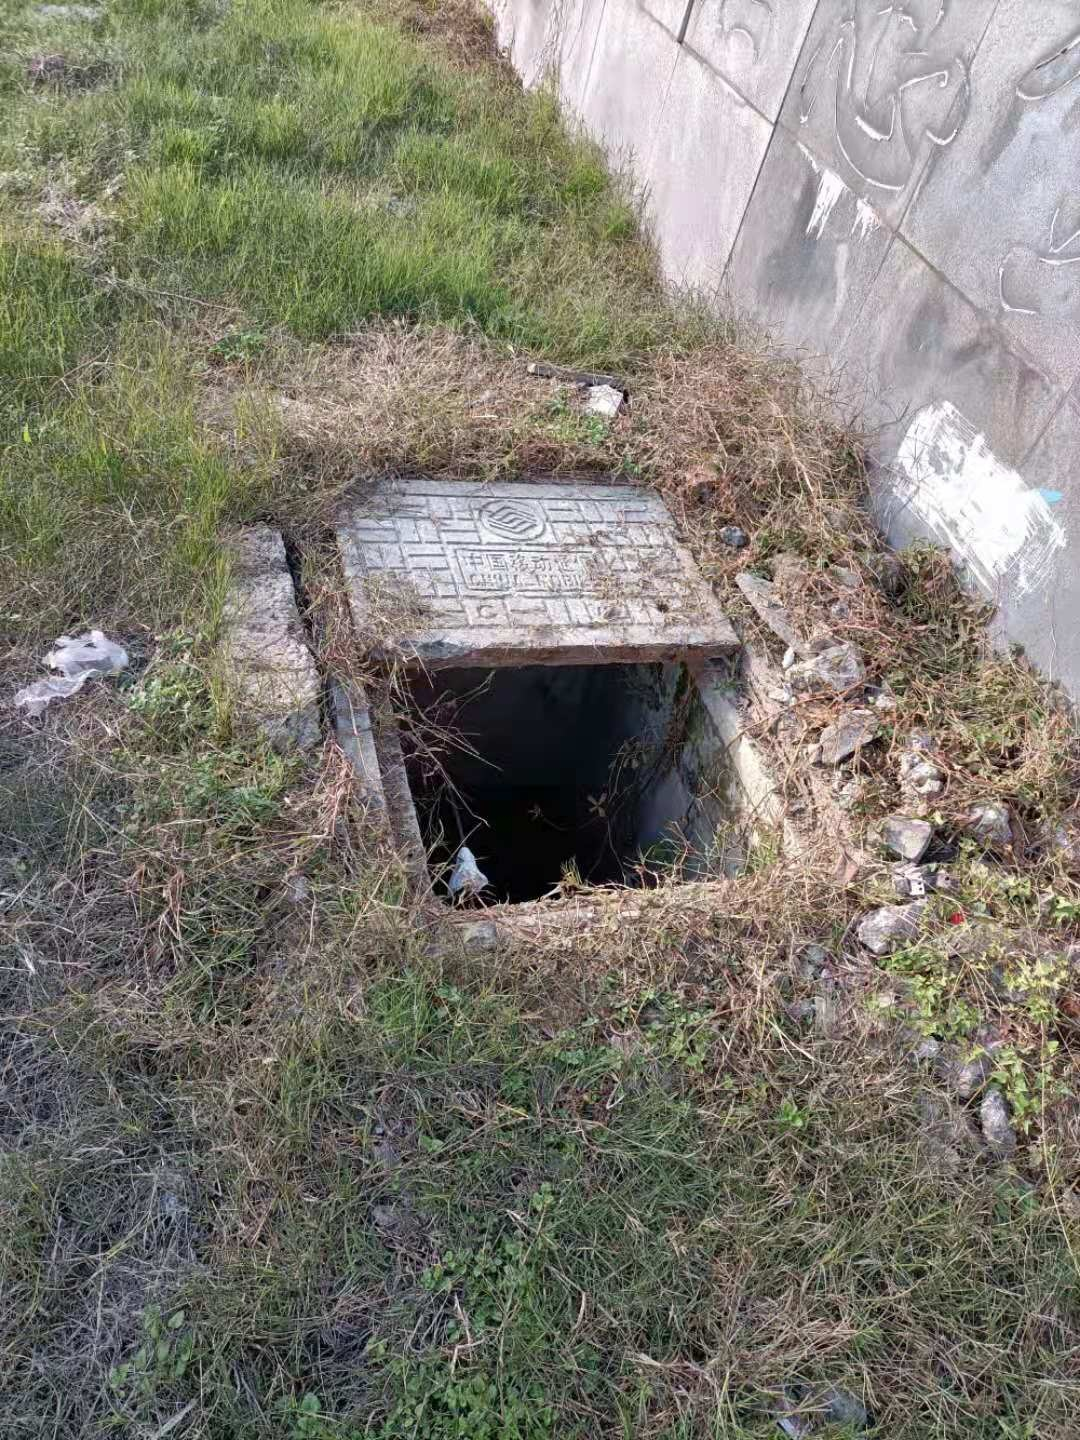well: (301, 473, 821, 927)
